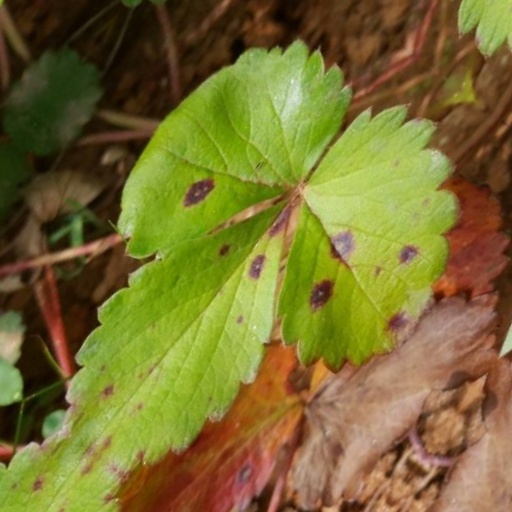Leaf Spot: (160, 185, 332, 511), (251, 38, 429, 318), (100, 47, 251, 334), (287, 287, 405, 511)
